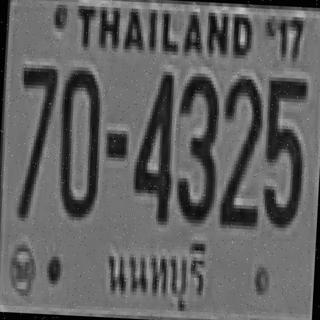N00: (54, 68, 102, 216)
N02: (217, 75, 263, 226), (218, 73, 263, 214)
N03: (174, 72, 218, 221)
N04: (129, 67, 175, 222)
N05: (260, 74, 307, 225)
N07: (15, 62, 56, 218), (17, 64, 56, 171)
P37: (97, 229, 214, 315)
